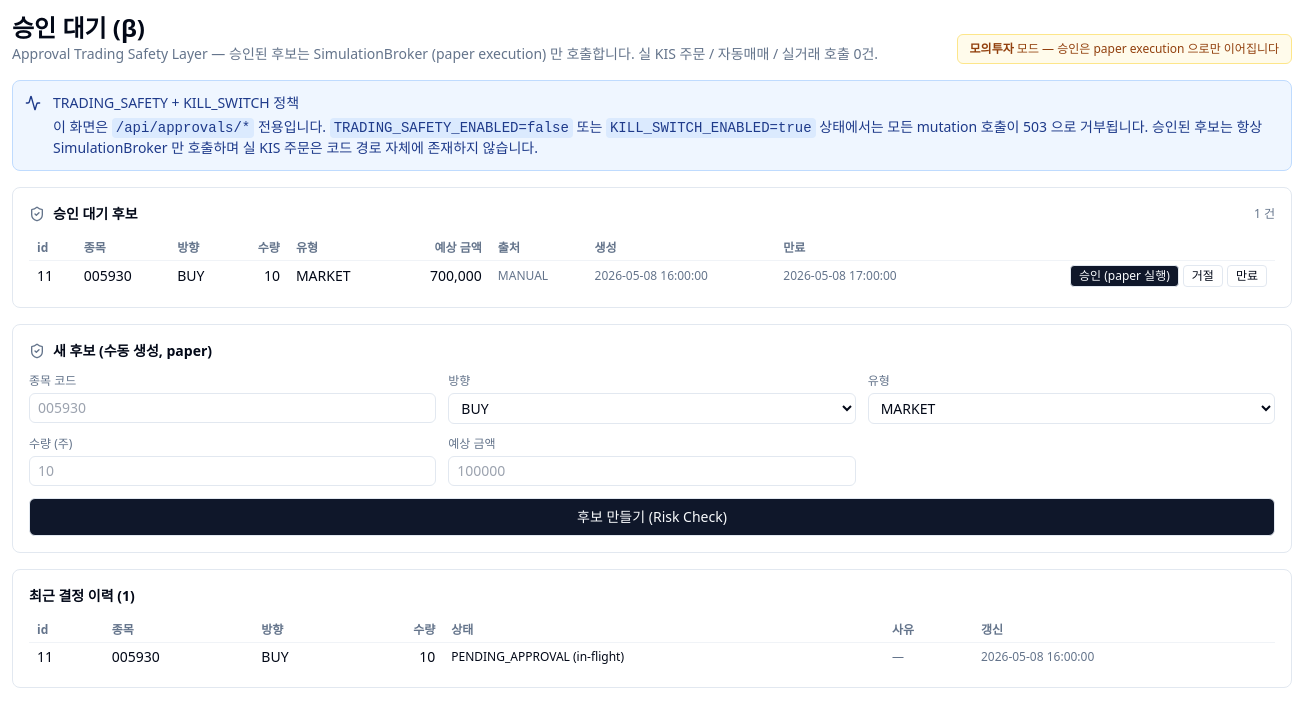
ApprovalsPage › renders risk violation rows when the candidate has HARD violations
Click the row with test id "approvals-row-11" at (652, 276), box x1=29 y1=260 x2=1275 y2=291
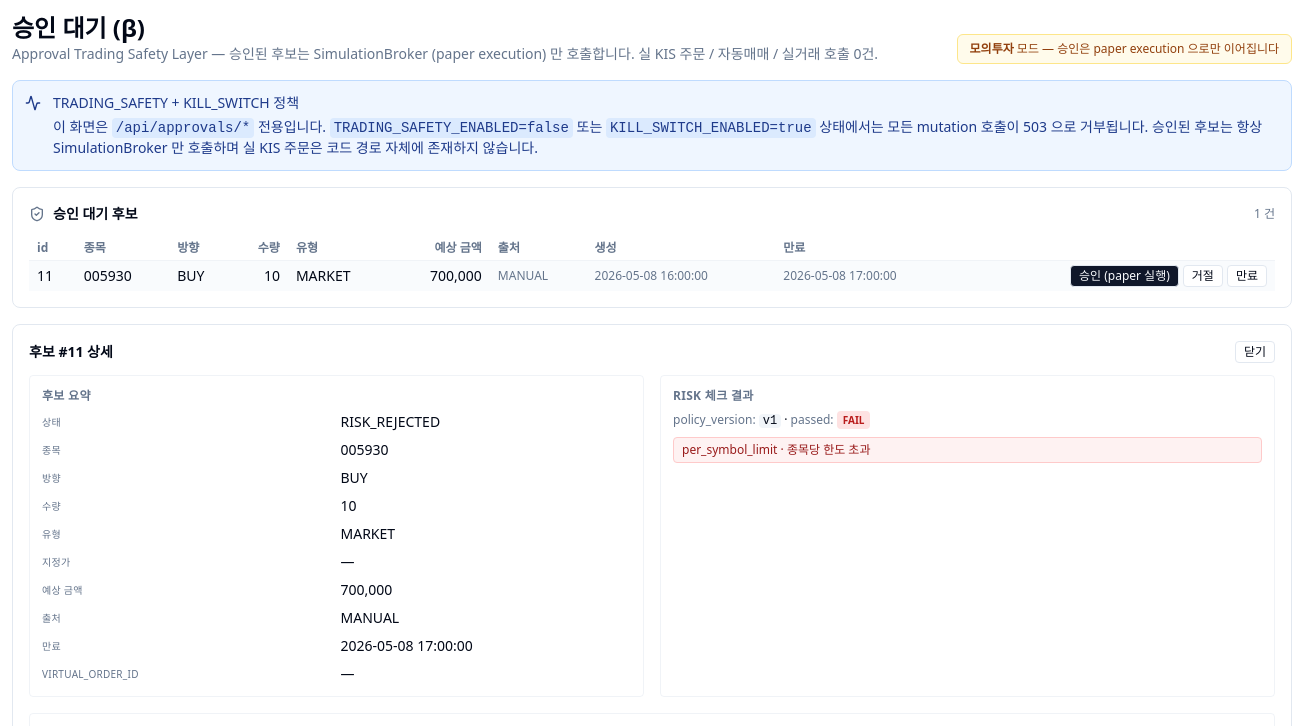
Now the list item with test id "approvals-detail-violation-per_symbol_limit" is shown, box x1=673 y1=437 x2=1262 y2=463
